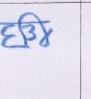i_matra: (25, 12, 52, 46)
